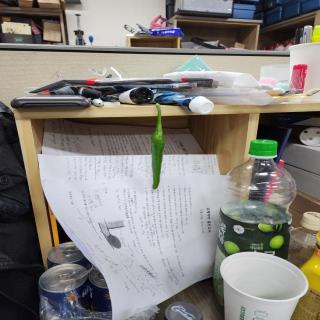Cabai Hijau: (149, 99, 172, 201)
